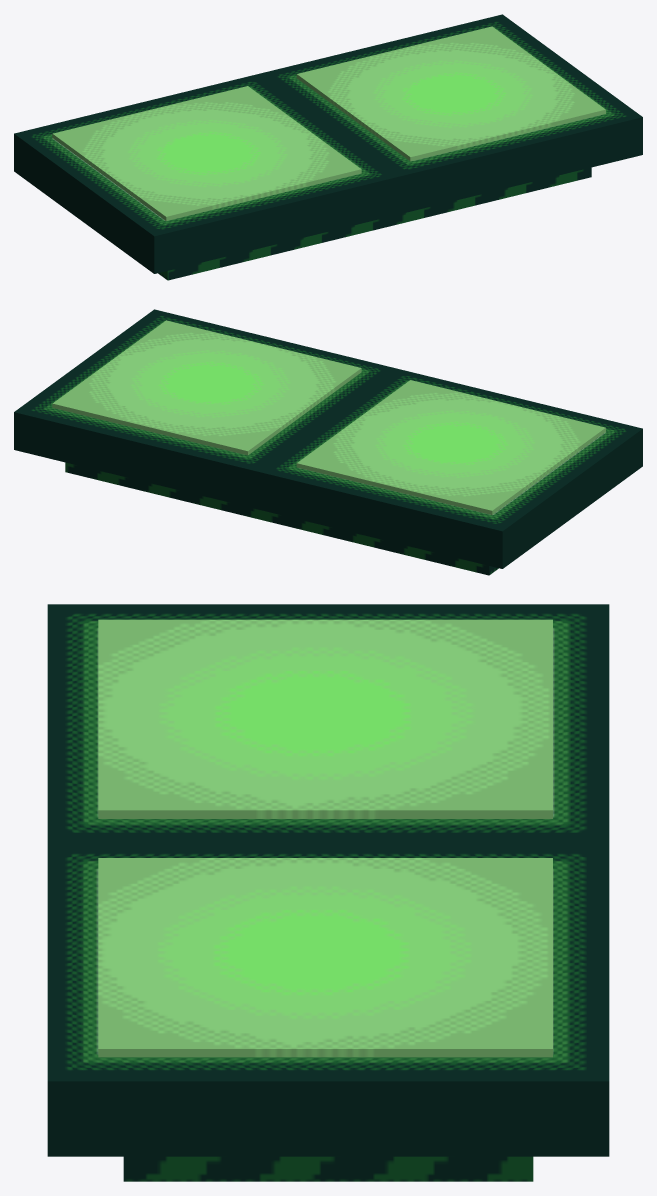
The model's file is SM_SOL_environment_miku_platform.fbx.
3 views of the same model, one above another, from view 1: azimuth 30°, elevation 25°; view 2: azimuth 150°, elevation 25°; view 3: azimuth 270°, elevation 25° (orthographic). The views are drawn at different scales.
Visible parts, largest first — view 1: platform1; view 2: platform1; view 3: platform1.
Part boxes in pixels (x1,y1,x2,y2): platform1: (14,14,642,280); platform1: (14,309,642,575); platform1: (47,604,609,1181).
Bounding box in the file's own units: 459 × 63.06 × 228.
